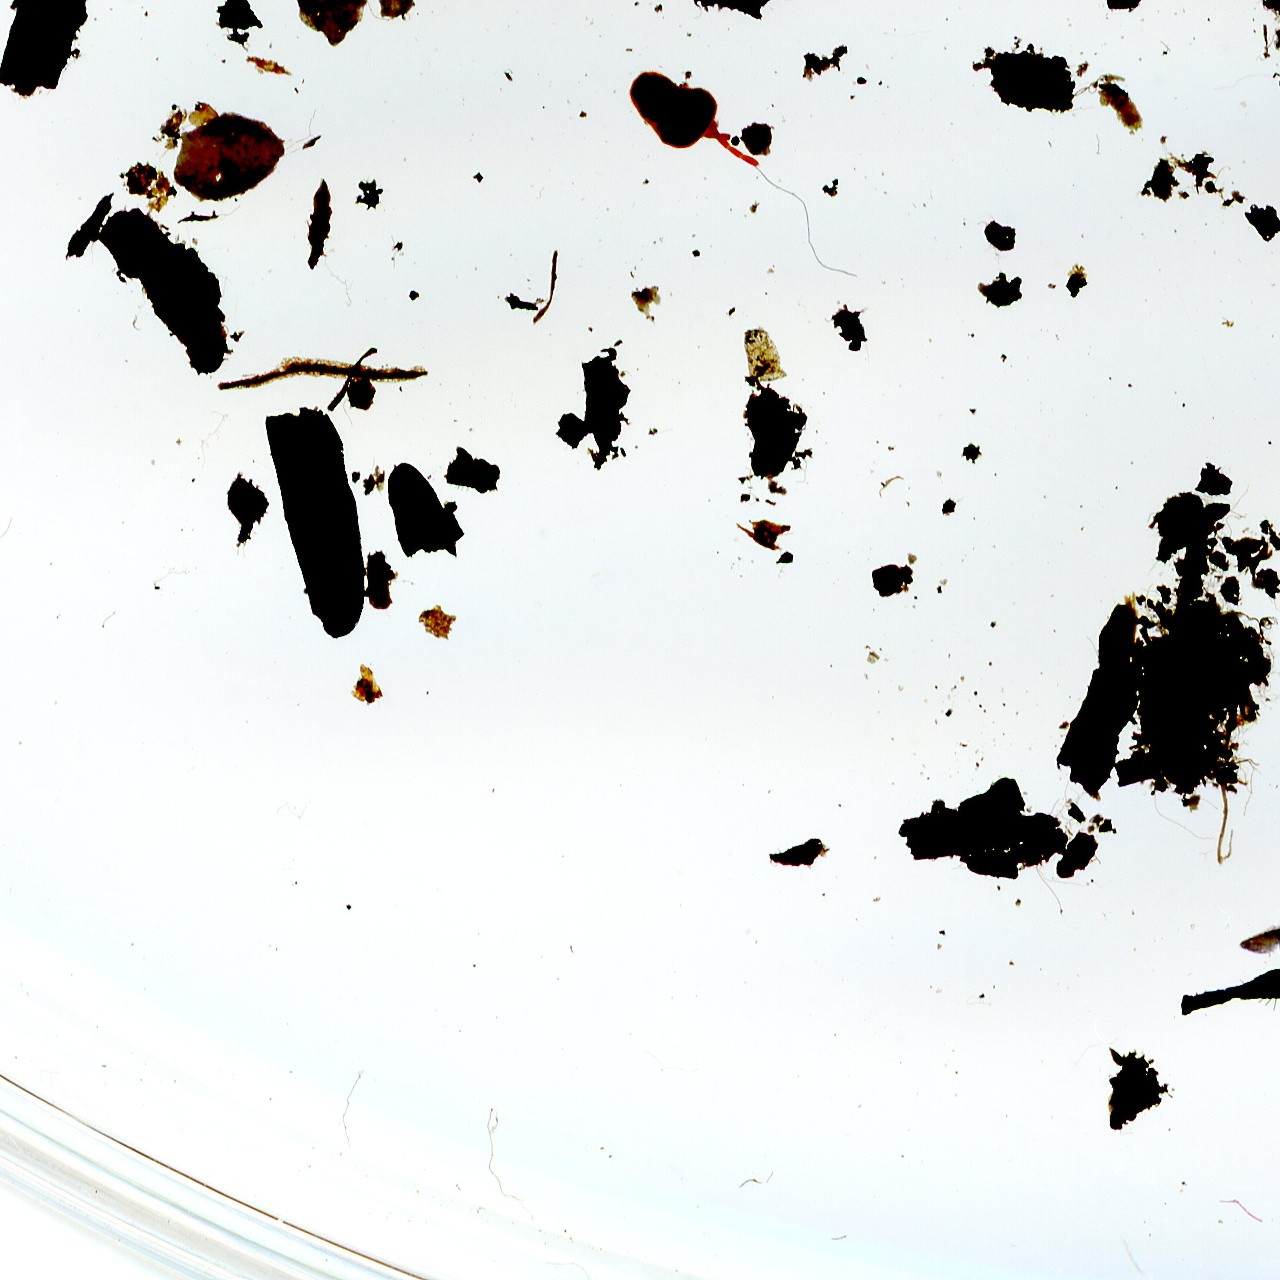arthropod: (1233, 920, 1280, 960)
